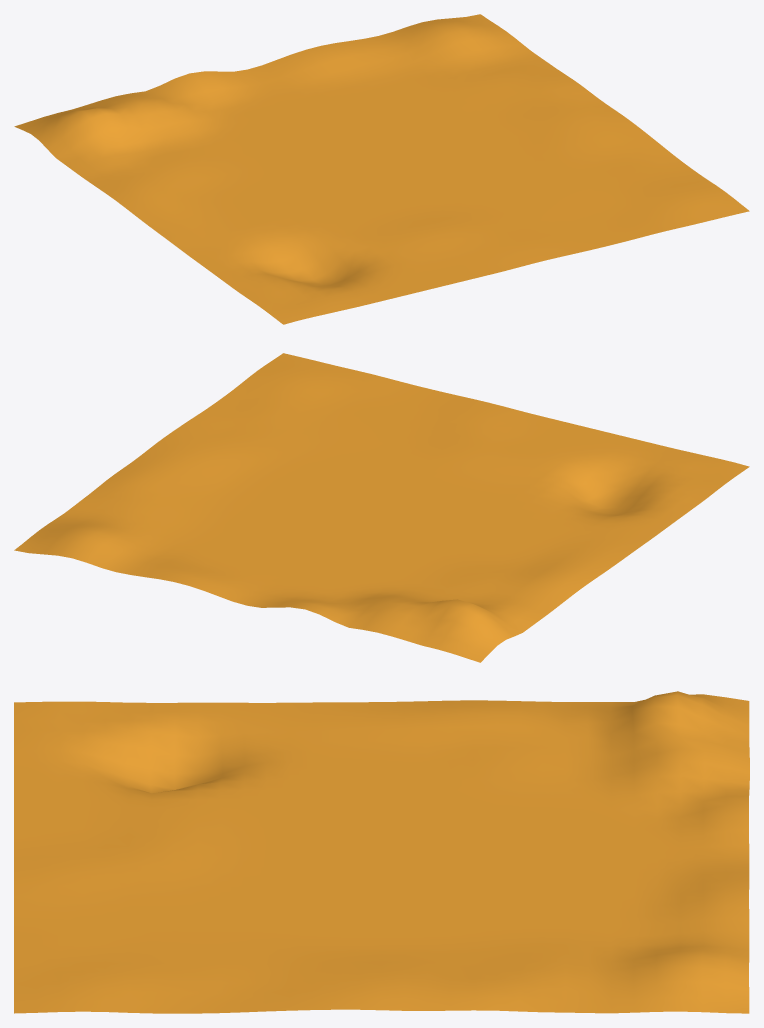
Rendered from landscape.fbx.
3 renders of one model, top to bottom at view 1: azimuth 30°, elevation 25°; view 2: azimuth 150°, elevation 25°; view 3: azimuth 270°, elevation 25°, orthographic. The views are drawn at different scales.
Visible parts, largest first — view 1: Plane.001; view 2: Plane.001; view 3: Plane.001.
Boxes of the visible parts, x1=… form: Plane.001: x1=14, y1=14, x2=749, y2=324; Plane.001: x1=14, y1=353, x2=749, y2=662; Plane.001: x1=14, y1=691, x2=749, y2=1013.
Bounding box in the file's own units: 4002 × 373 × 4004.
